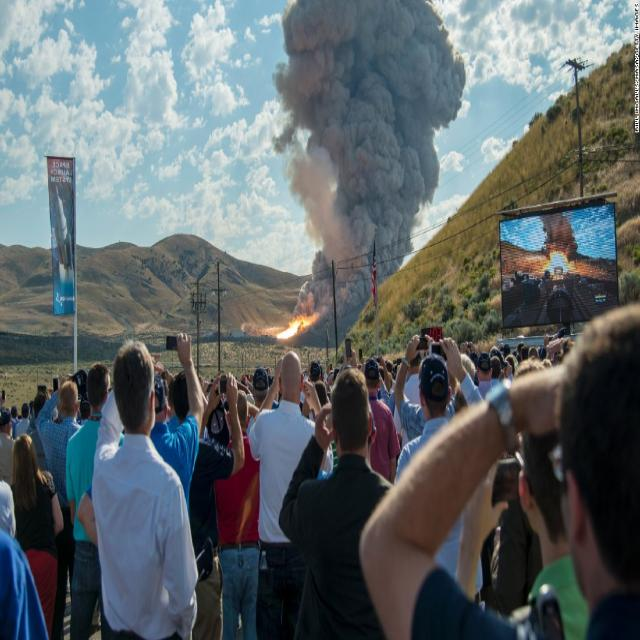smoke: (297, 7, 432, 286)
